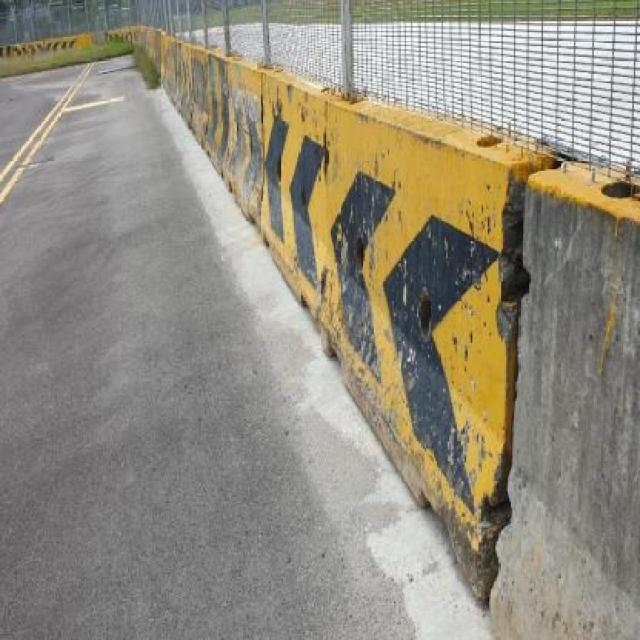fallen_object: (243, 62, 533, 582), (501, 148, 640, 640), (165, 27, 269, 224), (0, 22, 171, 88)
